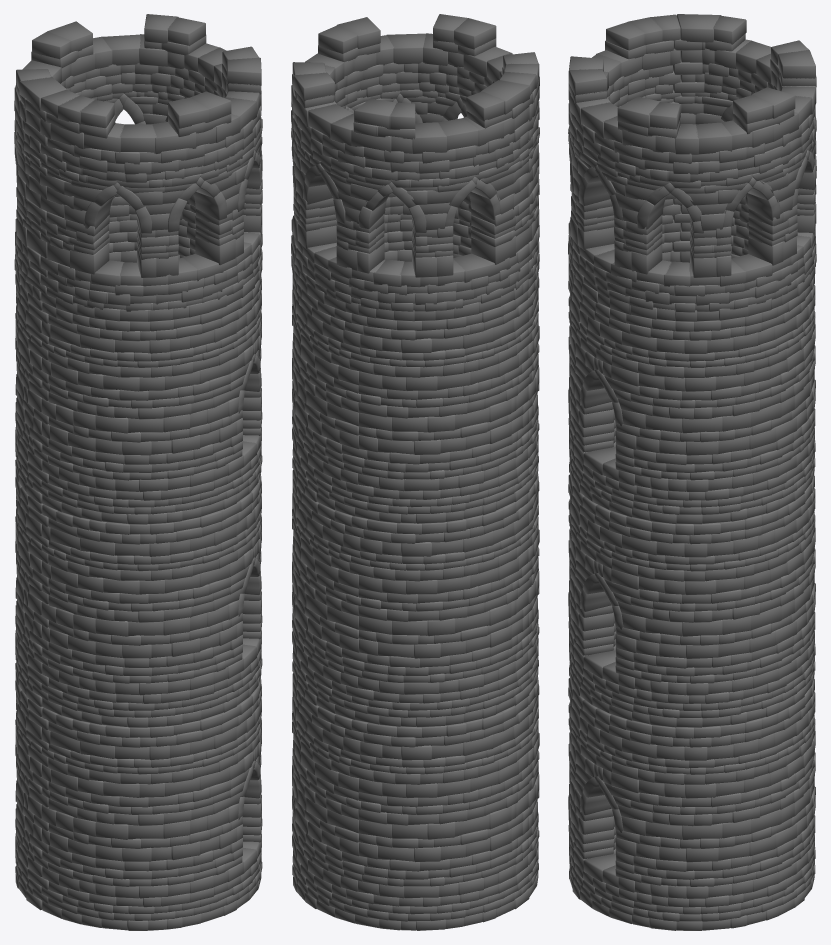
File: tower_v2.glb
3 views of the same model, side by side, from view 1: azimuth 30°, elevation 25°; view 2: azimuth 150°, elevation 25°; view 3: azimuth 270°, elevation 25° (orthographic).
Visible parts, largest first — view 1: Wall.001; view 2: Wall.001; view 3: Wall.001.
Boxes of the visible parts, x1,y1,x2,y2 form: Wall.001: (14,14,262,930); Wall.001: (291,14,539,930); Wall.001: (568,14,816,930).
Size of the model in its own units: 16.71 by 60.48 by 16.76.
Materials: 1 (1 with a texture image).
